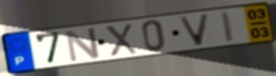0: (141, 19, 169, 54)
7: (33, 31, 62, 66)
I: (219, 9, 236, 44)
N: (64, 26, 102, 64)
V: (176, 13, 212, 48)
X: (103, 23, 140, 58)
